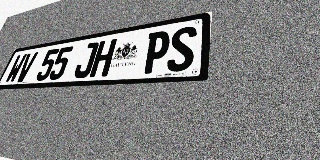5: (48, 46, 74, 80), (35, 48, 60, 81)
H: (89, 39, 117, 77)
J: (72, 42, 100, 79)
P: (141, 30, 172, 74)
S: (166, 25, 197, 72)
V: (14, 52, 38, 82)
W: (4, 54, 27, 83)
